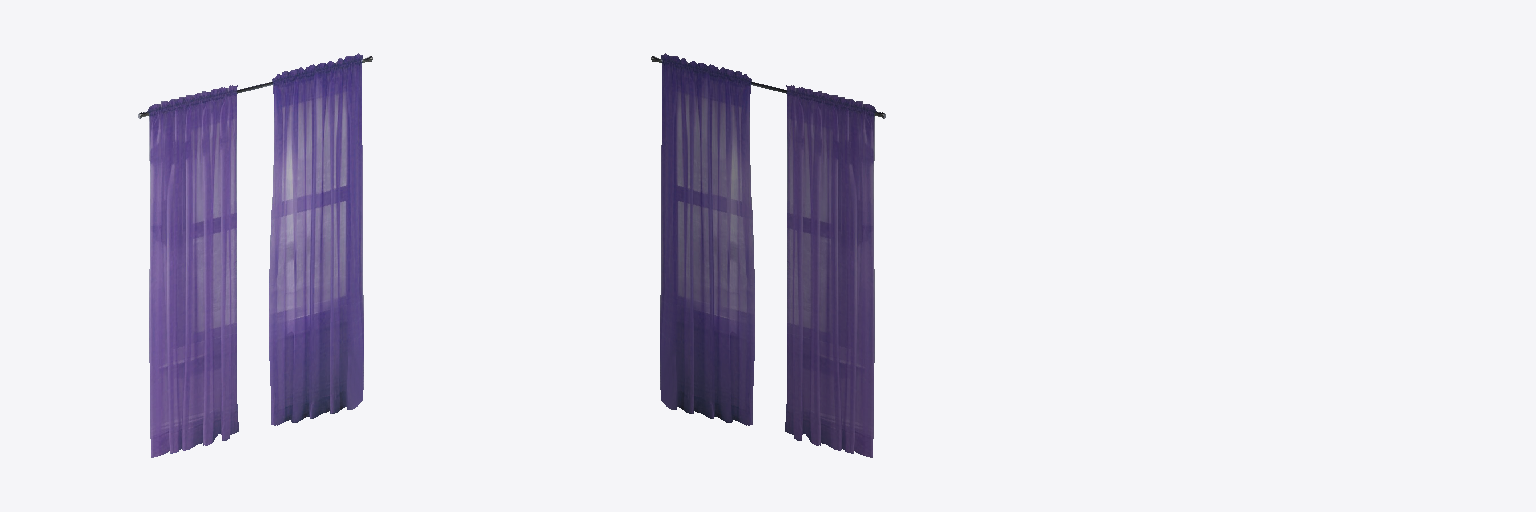
The picture shows the model from 3 angles: view 1: azimuth 30°, elevation 25°; view 2: azimuth 150°, elevation 25°; view 3: azimuth 270°, elevation 25°; orthographic projection.
Parts seen in each view (by area): view 1: Mesh1 Group1 curtains2_1 Model; view 2: Mesh1 Group1 curtains2_1 Model; view 3: none.
Part boxes in pixels (x1,y1,x2,y2): Mesh1 Group1 curtains2_1 Model: (138, 53, 372, 457); Mesh1 Group1 curtains2_1 Model: (651, 53, 885, 457).
Bounding box in the file's own units: 61.06 × 88.46 × 0.
Materials: 1 (1 with a texture image).